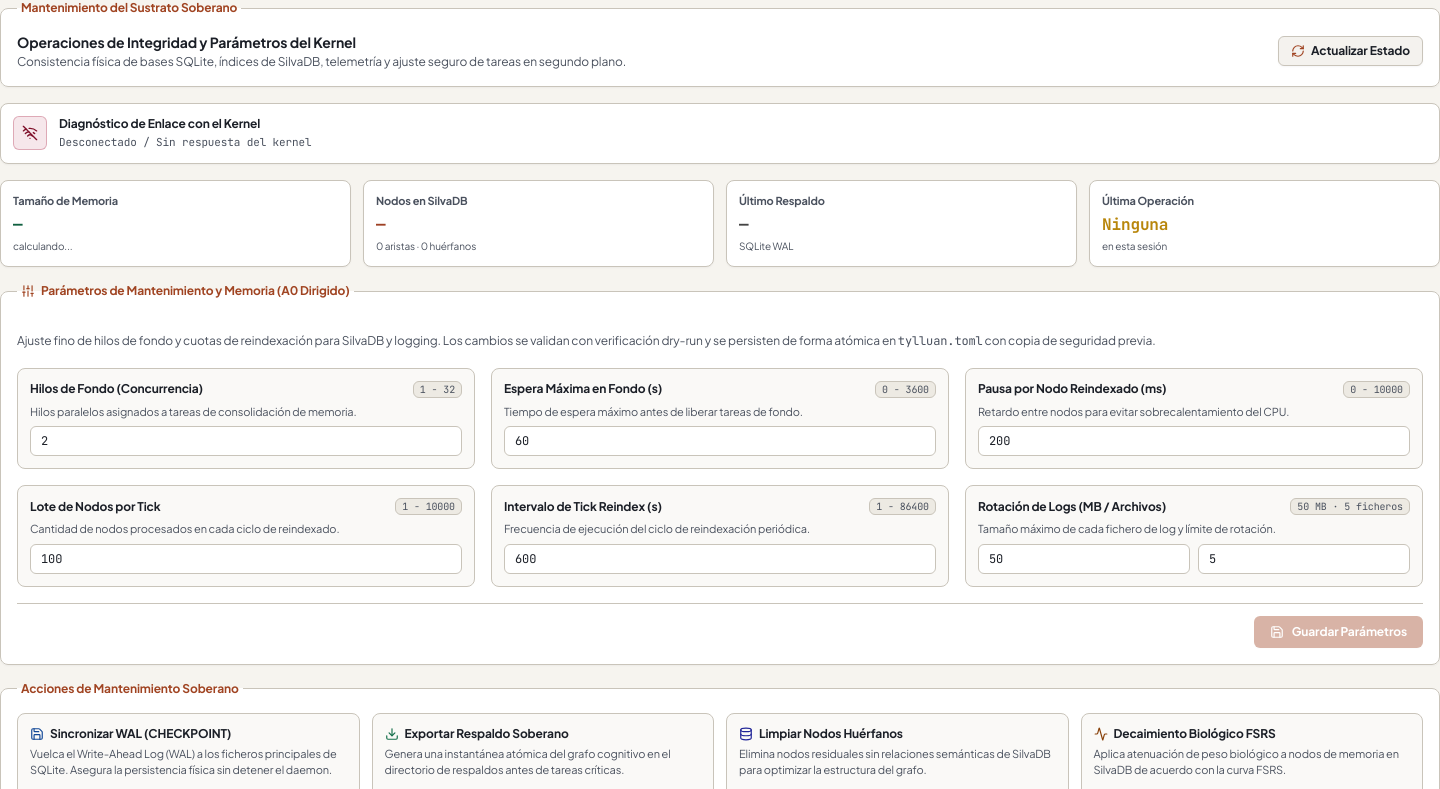
Ajustes del Sistema — Paneles Unificados A2 (Consumo Mínimo) › MaintenanceTab (A3) › lee requires_restart del backend y avisa "Guardado, aplica al reiniciar" con banner accesible (H2 / AG-23)
Replace the text in the number field labelled "Hilos de Fondo (Concurrencia)" with "6". click: (246,441)
box: [30,426,462,456]
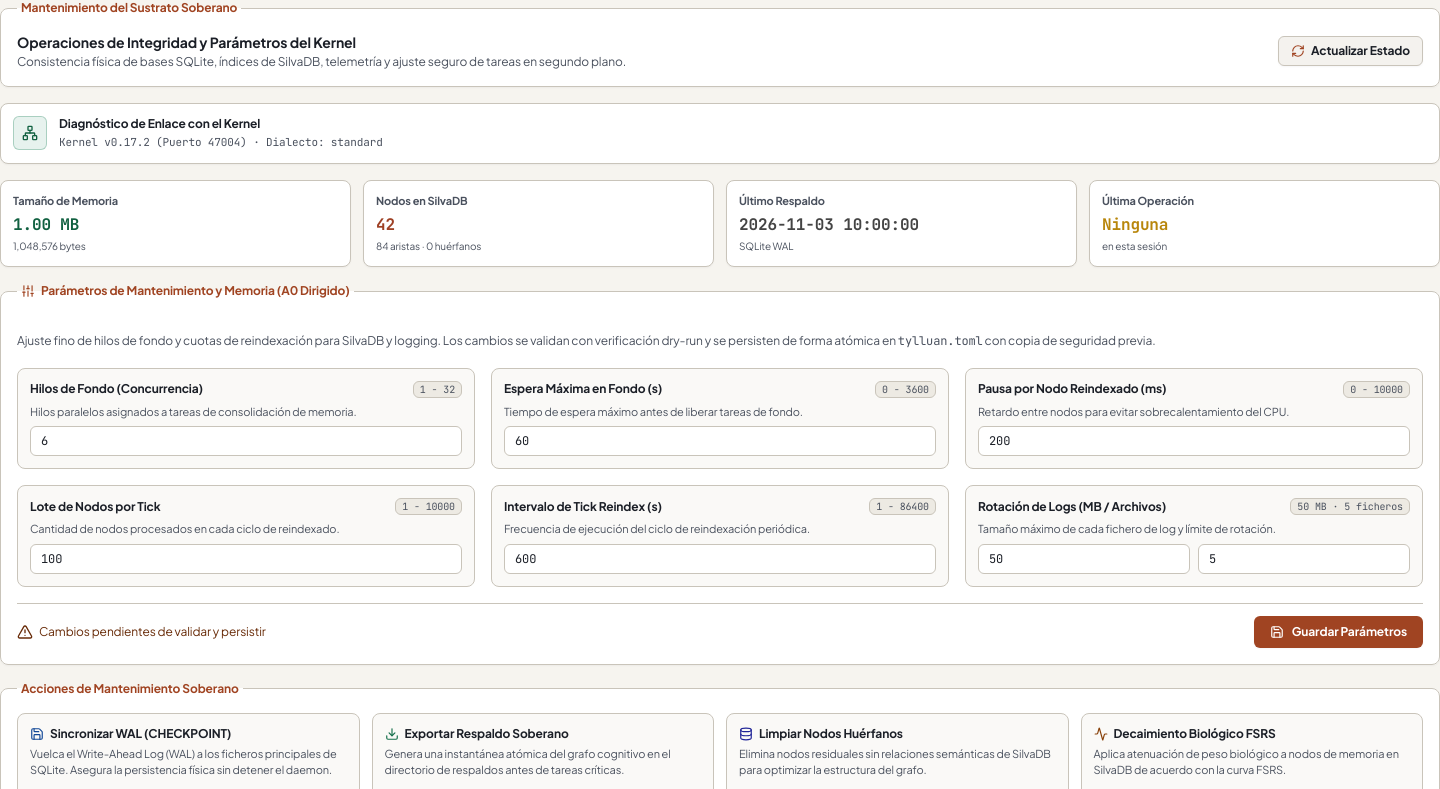
Click the button "Guardar Parámetros". click: (1338,632)
box: [1254,616,1423,648]
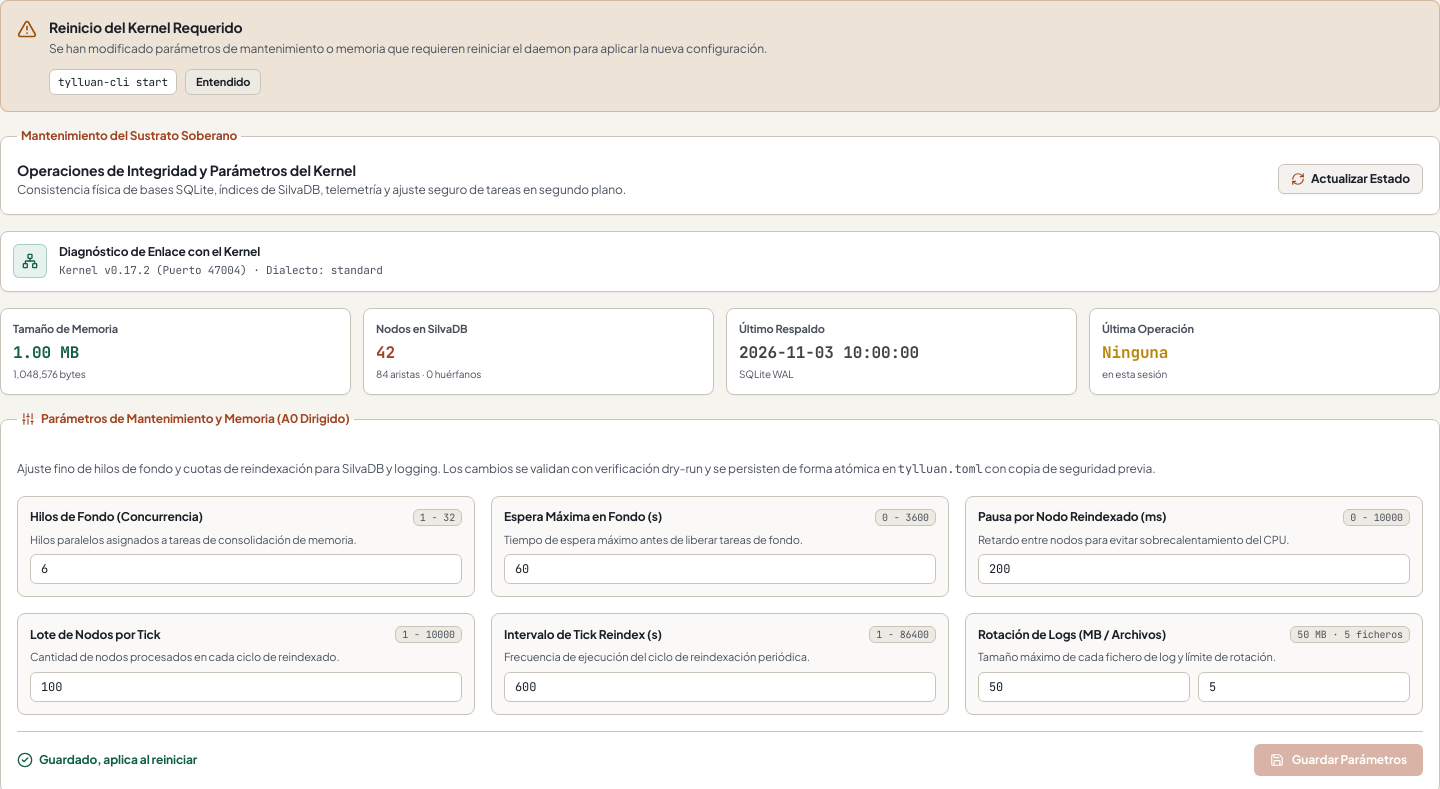
expect the text "Guardado, aplica al reiniciar" is shown: met, box [39,752,197,768]
expect the message that starts with "Reinicio del Kernel Requerido" is shown: met, box [0,0,1439,112]
Click the button "Entendido". click: (223,82)
box: [185,69,261,95]
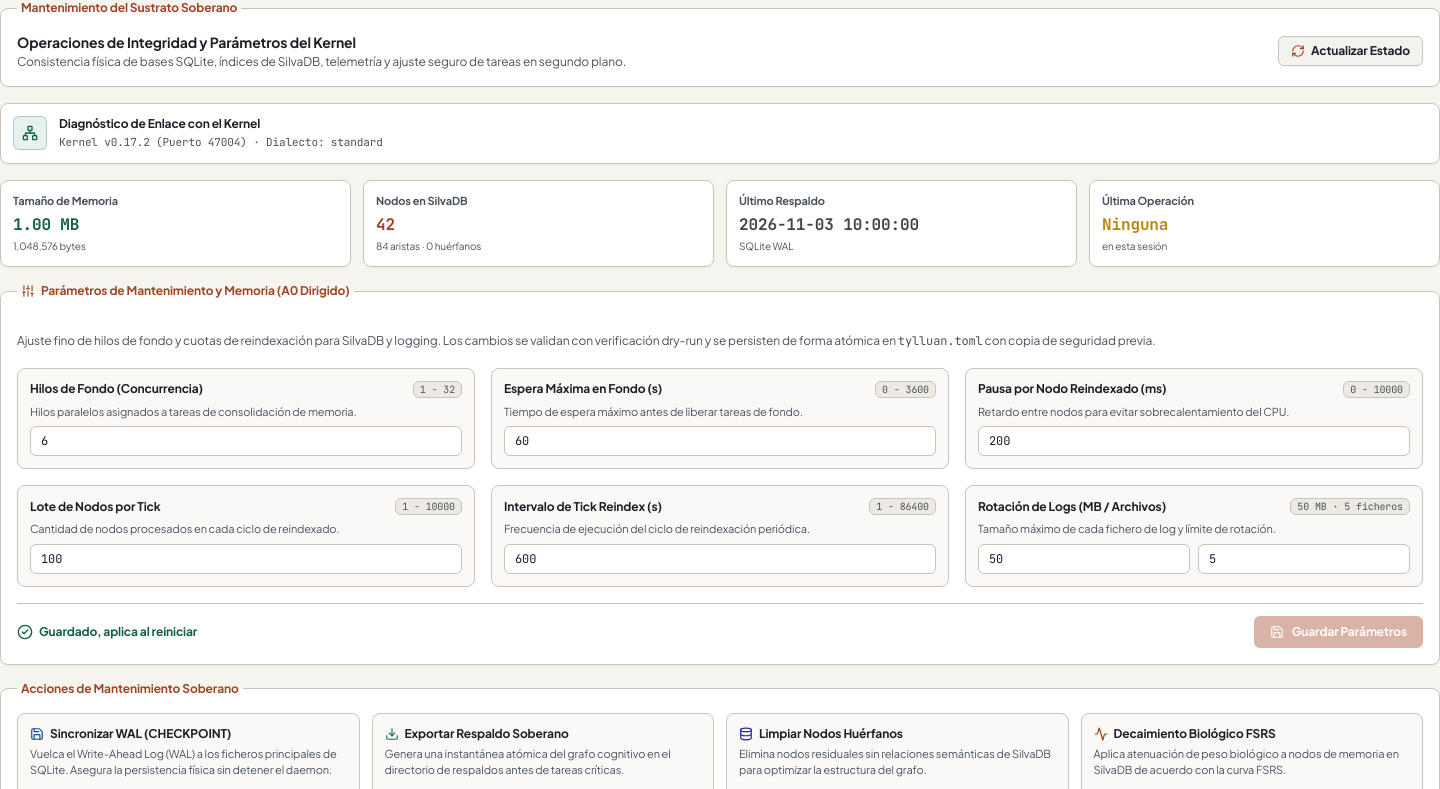
expect the heading "Reinicio del Kernel Requerido" is gone: met
